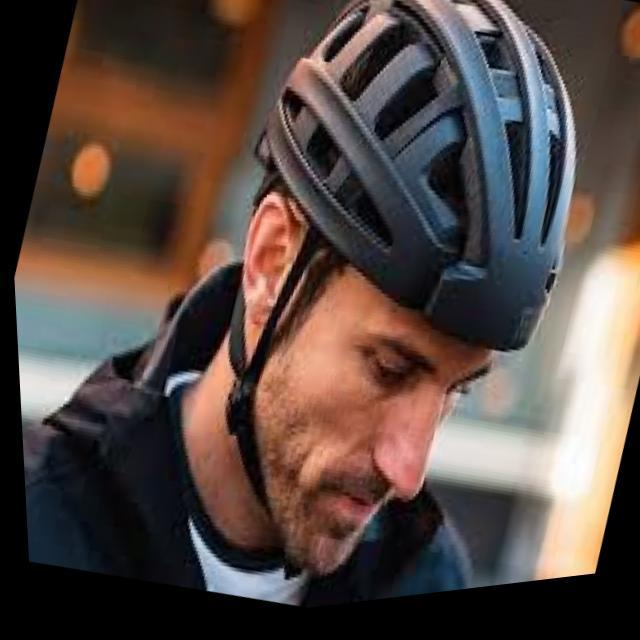Helmet: (218, 0, 579, 584)
